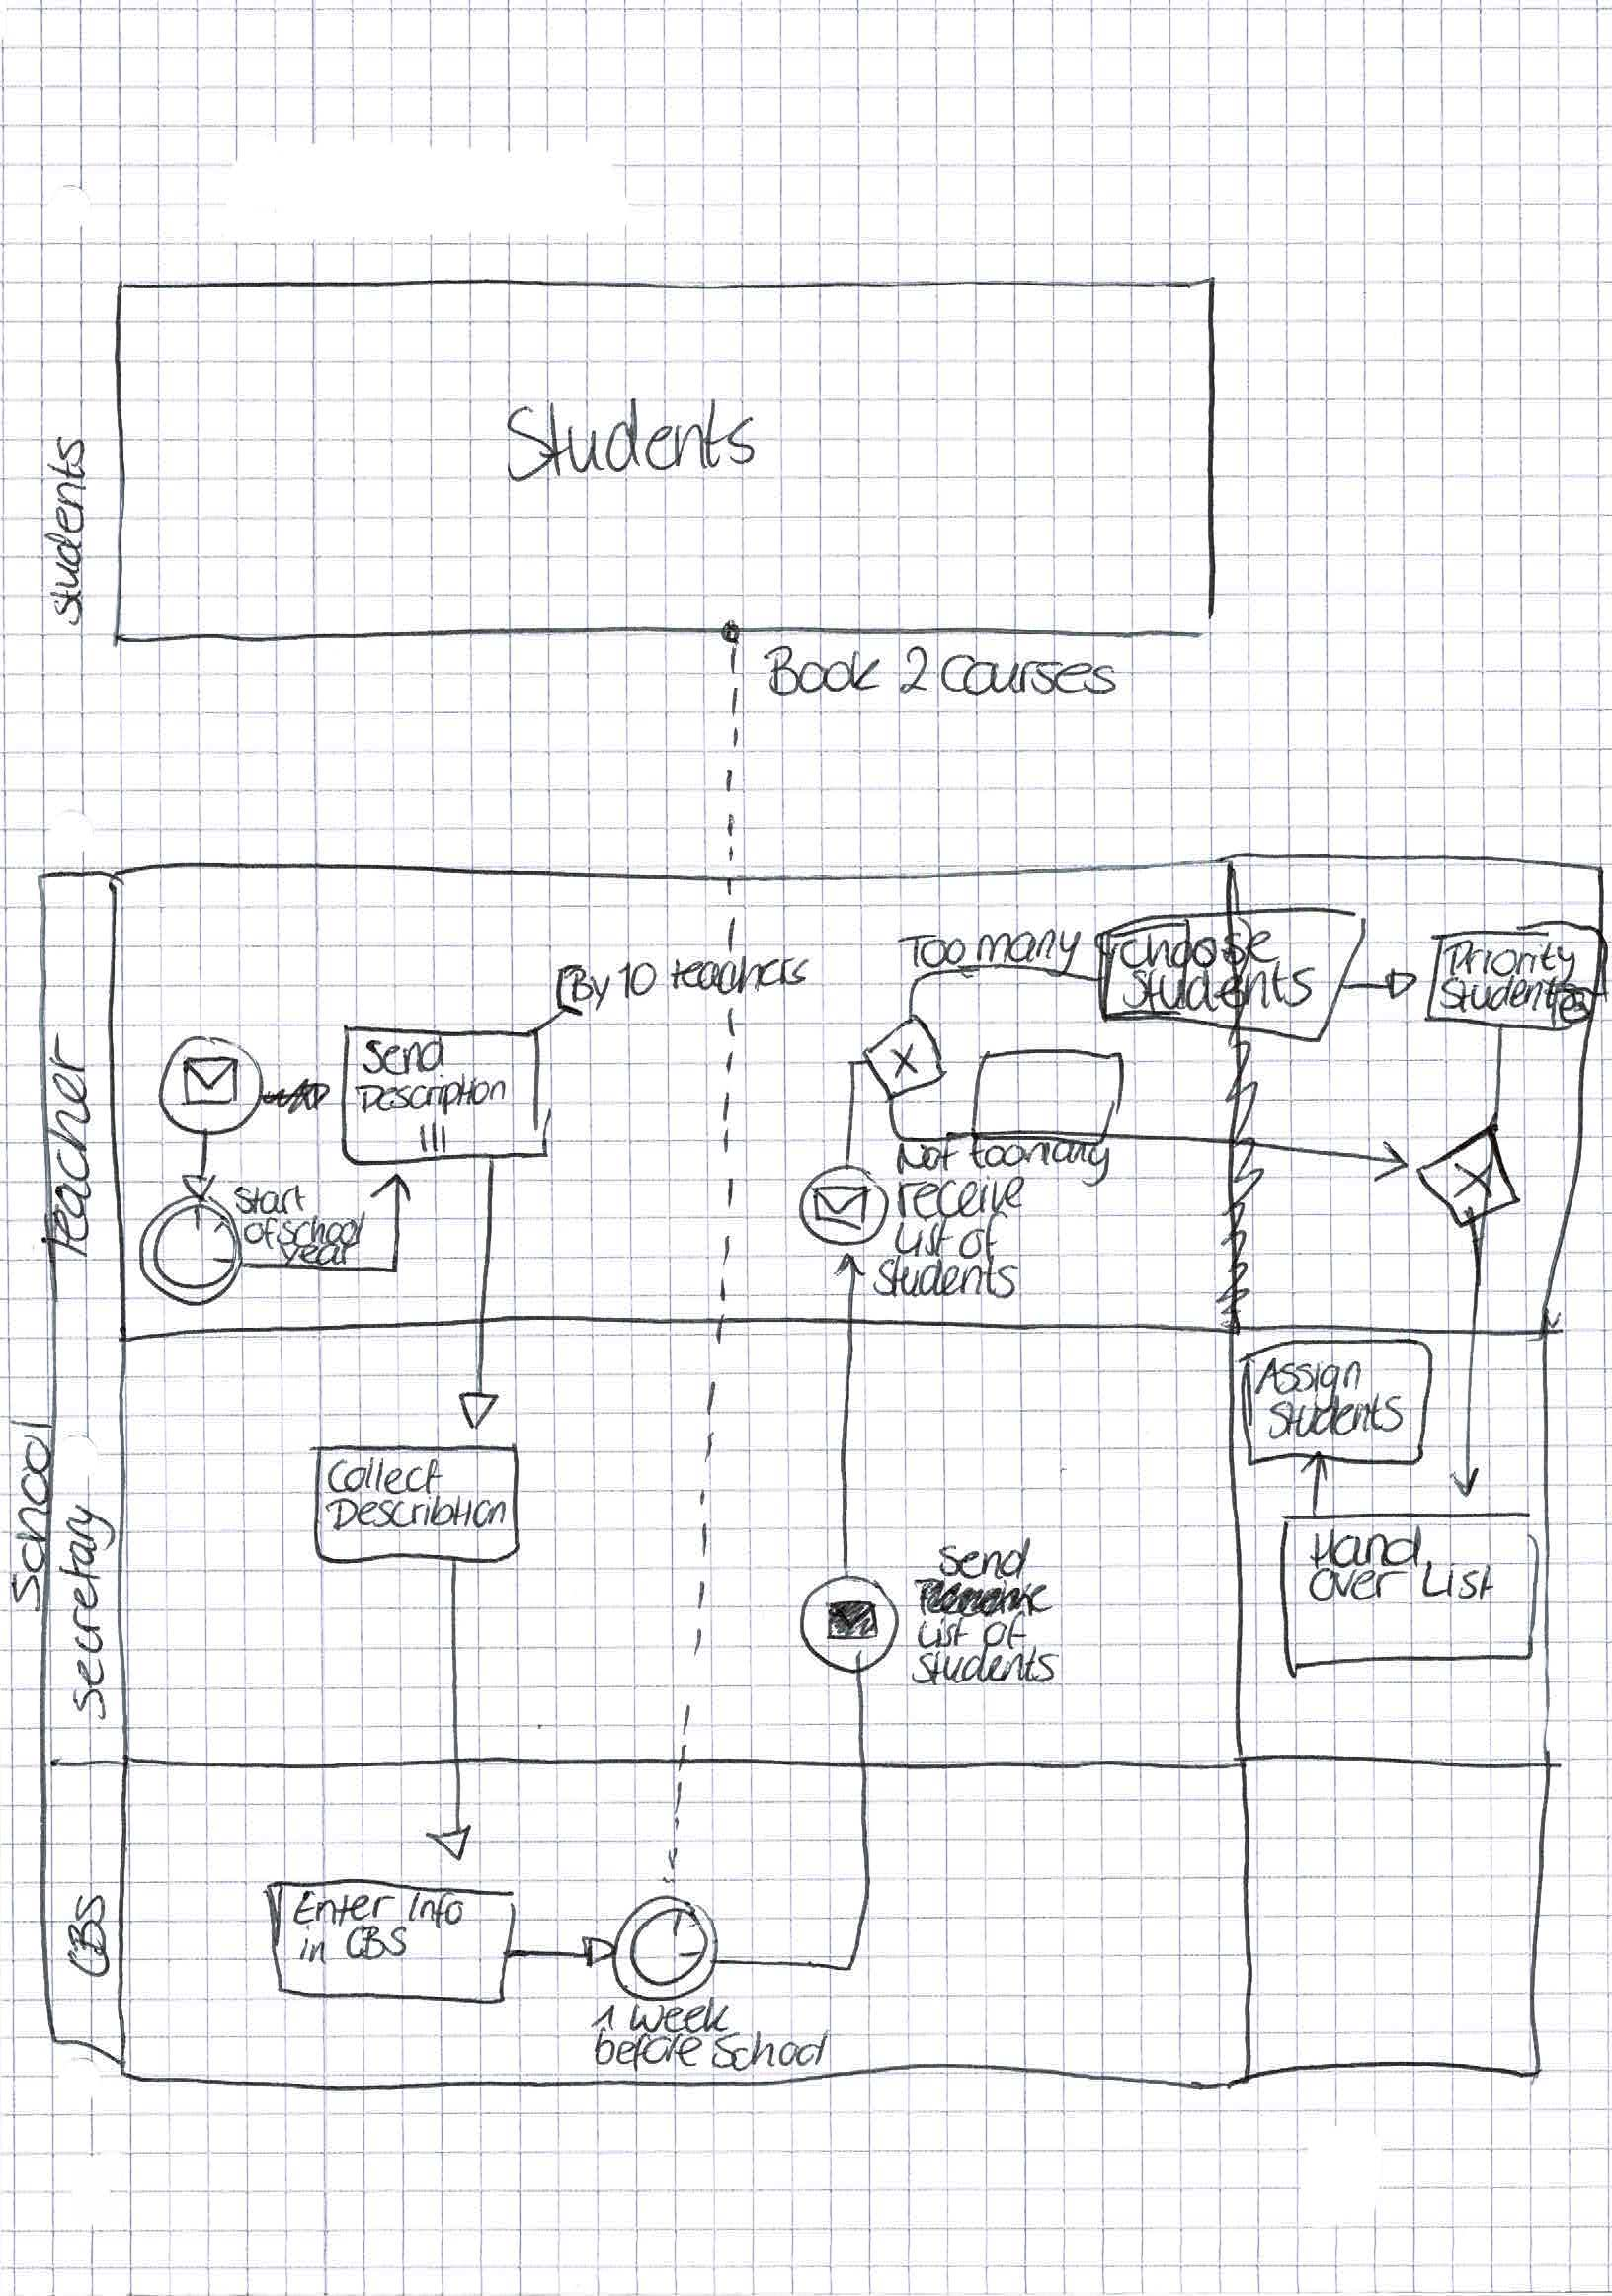1: (591, 2002, 618, 2034)
10: (614, 959, 660, 1000)
2: (896, 646, 932, 697)
Assign: (1253, 1357, 1365, 1406)
Book: (763, 642, 884, 698)
By: (566, 967, 611, 1015)
CBS: (65, 1894, 111, 1978), (344, 1925, 411, 1960)
Describtion: (328, 1493, 509, 1530)
Description: (354, 1082, 510, 1125)
Enter: (293, 1889, 397, 1928)
Hand: (1309, 1523, 1424, 1570)
III: (415, 1119, 449, 1156)
Info: (406, 1888, 470, 1926)
List: (1421, 1559, 1496, 1600), (893, 1220, 958, 1256), (917, 1617, 971, 1653)
Not: (894, 1138, 960, 1177)
Priority: (1444, 939, 1579, 981)
School: (710, 2030, 829, 2074)
Start: (232, 1182, 309, 1216)
Students: (500, 401, 758, 485), (1267, 1391, 1407, 1441), (871, 1255, 1020, 1297), (1438, 975, 1579, 1012)
Too: (895, 931, 971, 970)
before: (593, 2028, 705, 2072)
choose: (1117, 917, 1282, 971)
collect: (325, 1457, 444, 1498)
courses: (940, 655, 1118, 697)
in: (295, 1927, 329, 1964)
many: (972, 926, 1084, 978), (1022, 1141, 1113, 1189)
of: (957, 1211, 1011, 1265), (980, 1610, 1030, 1650), (240, 1216, 281, 1252)
over: (1306, 1566, 1404, 1603)
receive: (893, 1173, 1027, 1220)
school: (8, 1416, 52, 1613), (279, 1209, 368, 1249)
secretary: (57, 1502, 117, 1721)
send: (936, 1533, 1034, 1581), (362, 1034, 447, 1079)
students: (1119, 963, 1320, 1013), (46, 435, 89, 627), (909, 1644, 1058, 1686)
teacher: (39, 1035, 91, 1263)
teachers: (667, 953, 814, 994)
too: (965, 1139, 1027, 1171)
week: (626, 1994, 733, 2034)
year: (276, 1244, 360, 1269)
